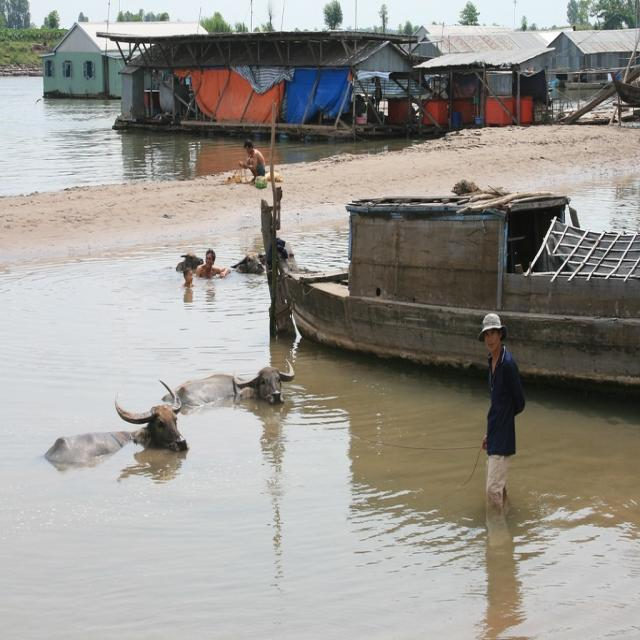boat: (263, 189, 640, 408)
